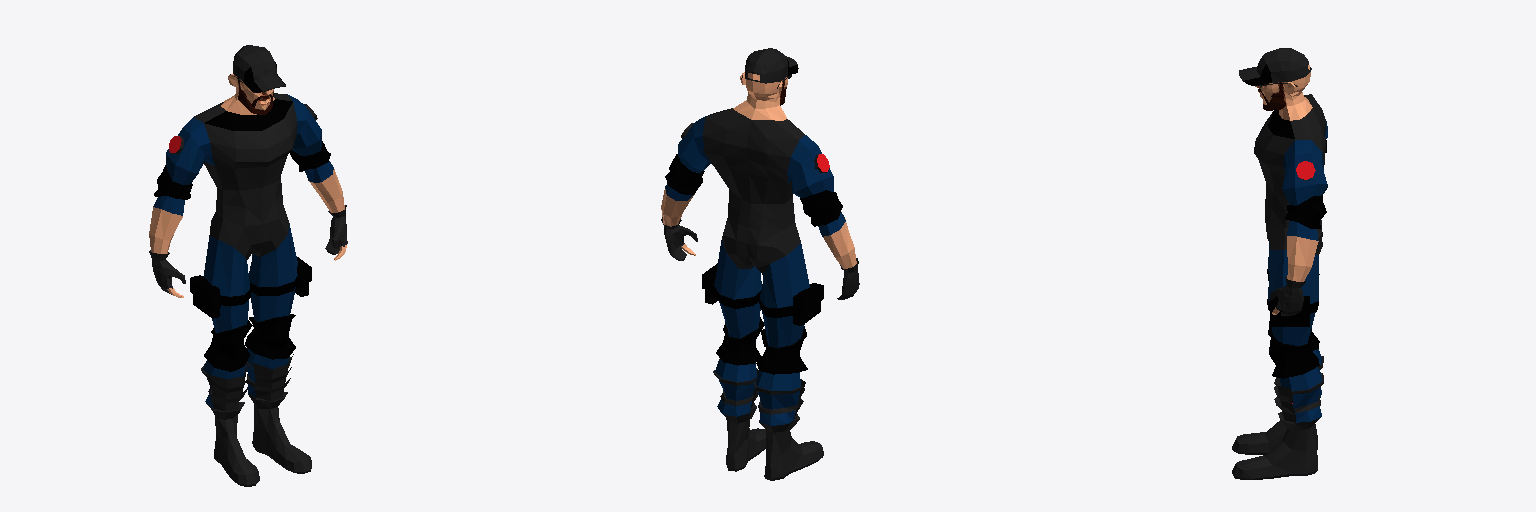
3 renders of one model, left to right at view 1: azimuth 30°, elevation 25°; view 2: azimuth 150°, elevation 25°; view 3: azimuth 270°, elevation 25°, orthographic.
Parts seen in each view (by area): view 1: Legs_body.004, Body_body, Arms_body.003, Knee_pads_body.009, Arms.001_body.005, Body.002_body.008, Body.003_body.002, Body.001_body.001, Elbow_pads_body.011; view 2: Legs_body.004, Body_body, Arms_body.003, Knee_pads_body.009, Arms.001_body.005, Body.002_body.008, Elbow_pads_body.011, Body.003_body.002; view 3: Legs_body.004, Body_body, Arms_body.003, Body.003_body.002, Arms.001_body.005, Knee_pads_body.009, Elbow_pads_body.011, Body.002_body.008.
Boxes of the visible parts, x1,y1,x2,y2 form: Legs_body.004: [201, 205, 311, 486]; Body_body: [183, 74, 305, 226]; Arms_body.003: [149, 161, 347, 297]; Knee_pads_body.009: [204, 314, 295, 371]; Arms.001_body.005: [166, 104, 321, 184]; Body.002_body.008: [190, 257, 311, 318]; Body.003_body.002: [233, 45, 285, 92]; Body.001_body.001: [205, 99, 292, 130]; Elbow_pads_body.011: [154, 141, 330, 199]; Legs_body.004: [713, 218, 823, 480]; Body_body: [693, 72, 817, 230]; Arms_body.003: [661, 183, 859, 299]; Knee_pads_body.009: [716, 317, 807, 374]; Arms.001_body.005: [678, 123, 833, 197]; Body.002_body.008: [702, 263, 823, 325]; Elbow_pads_body.011: [665, 154, 842, 226]; Body.003_body.002: [745, 48, 798, 83]; Legs_body.004: [1232, 220, 1323, 479]; Body_body: [1254, 65, 1325, 227]; Arms_body.003: [1270, 221, 1318, 315]; Body.003_body.002: [1239, 48, 1311, 85]; Arms.001_body.005: [1282, 121, 1327, 205]; Knee_pads_body.009: [1268, 321, 1319, 378]; Elbow_pads_body.011: [1285, 140, 1326, 228]; Body.002_body.008: [1267, 269, 1319, 326].
Bounding box in the file's own units: 0.8814 × 1.79 × 0.3789.
3 materials, 1 textured.